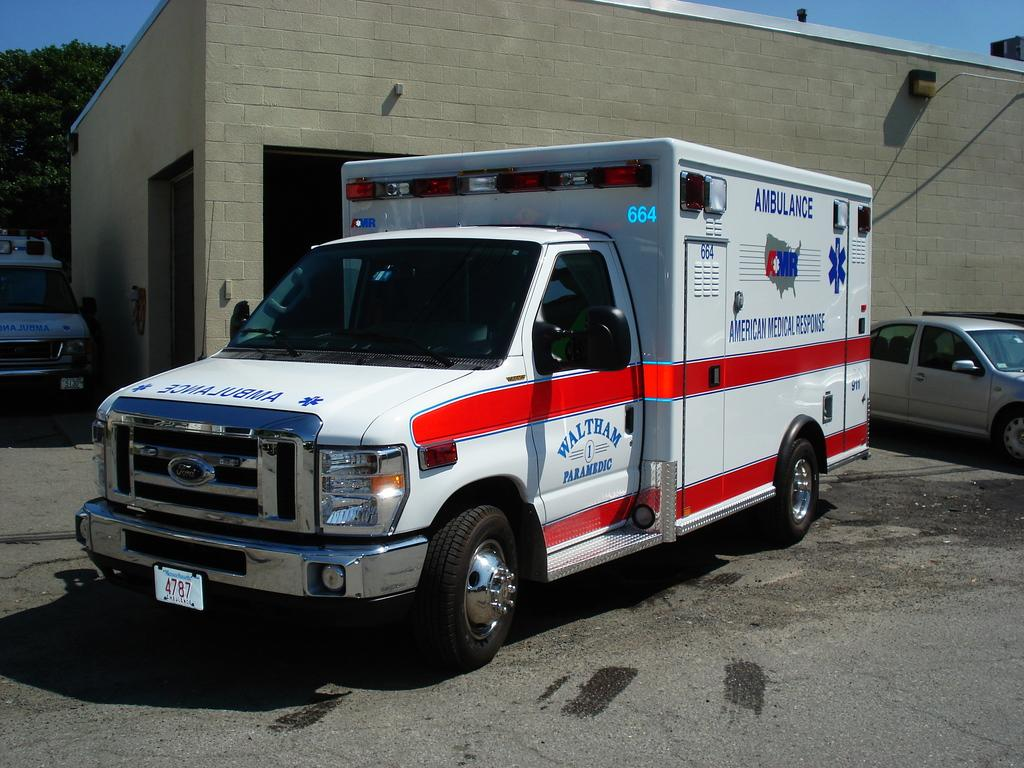Ambulance: (71, 134, 870, 673), (0, 228, 95, 422)
